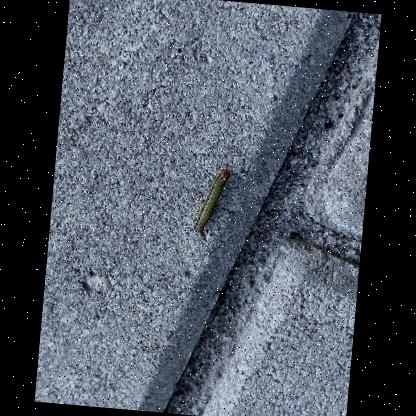Fall Armyworm Larvae: (191, 166, 232, 238)
